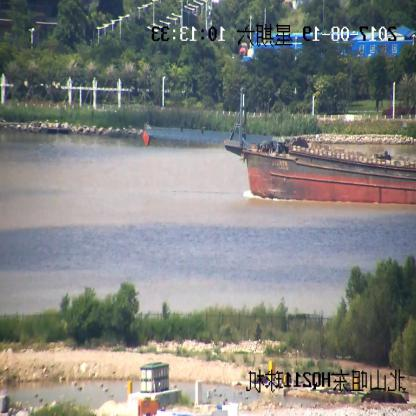Bulk Carrier: (143, 88, 416, 205)
